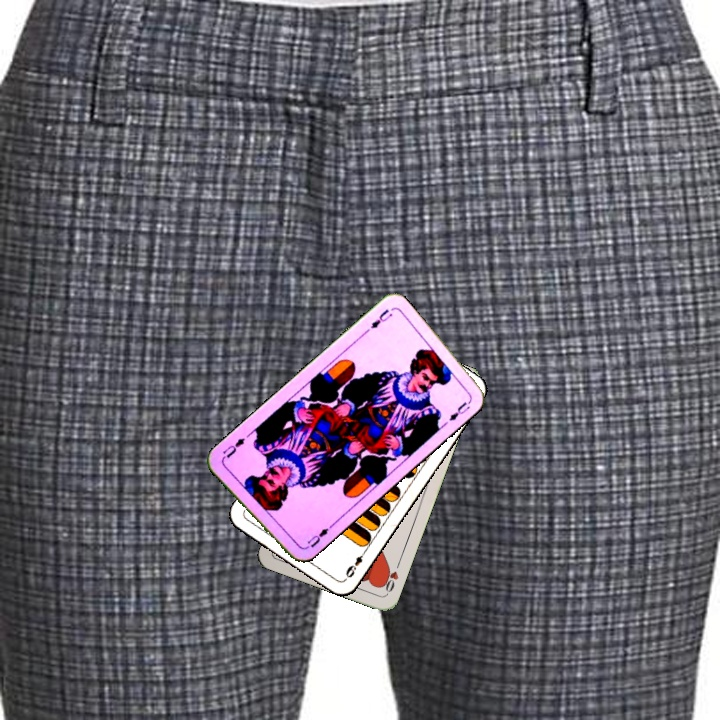E9: (341, 546, 369, 581)
EU: (300, 522, 334, 552), (366, 305, 395, 331)
HO: (378, 557, 403, 596)
